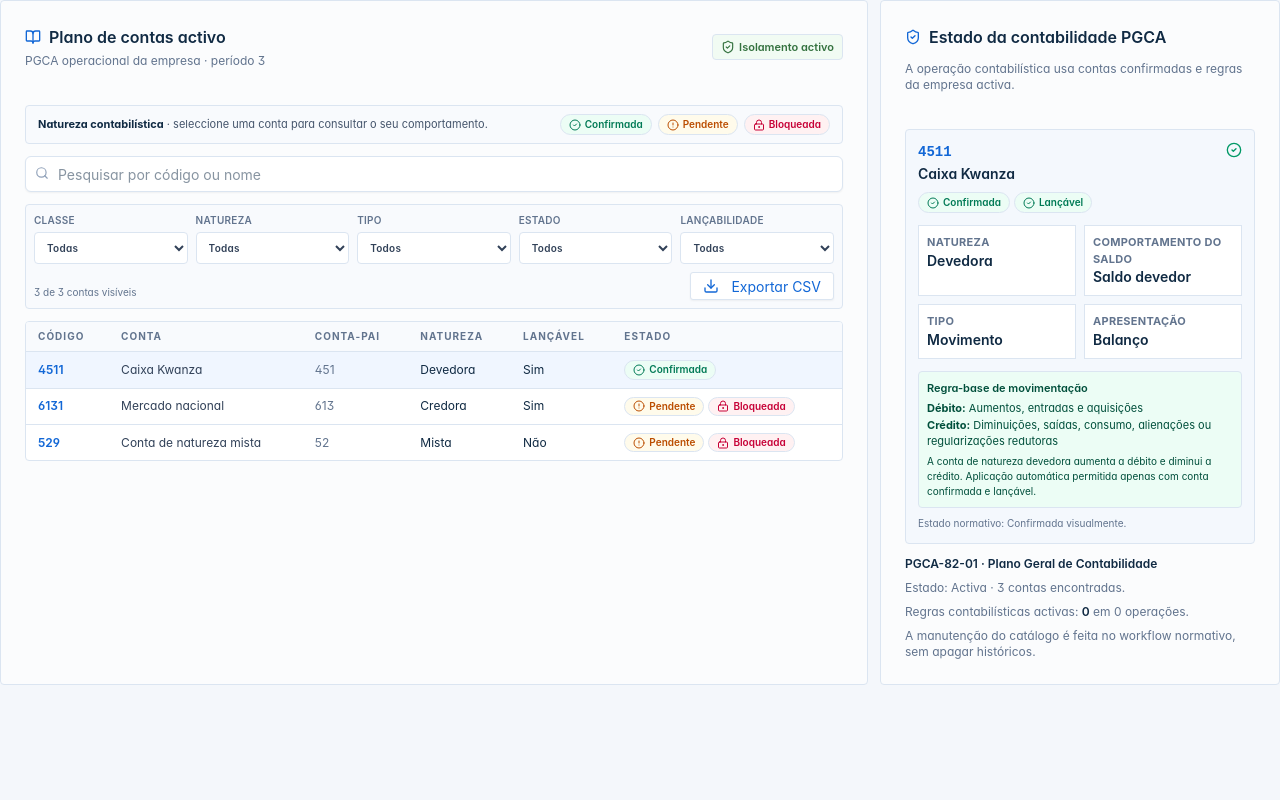
it: protótipo do motor contabilístico › filtra contas pendentes sem alterar a regra de lançamento
Select "Pendentes" in the dropdown named "Filtrar contas por estado": (596, 248) [519,232,672,264]
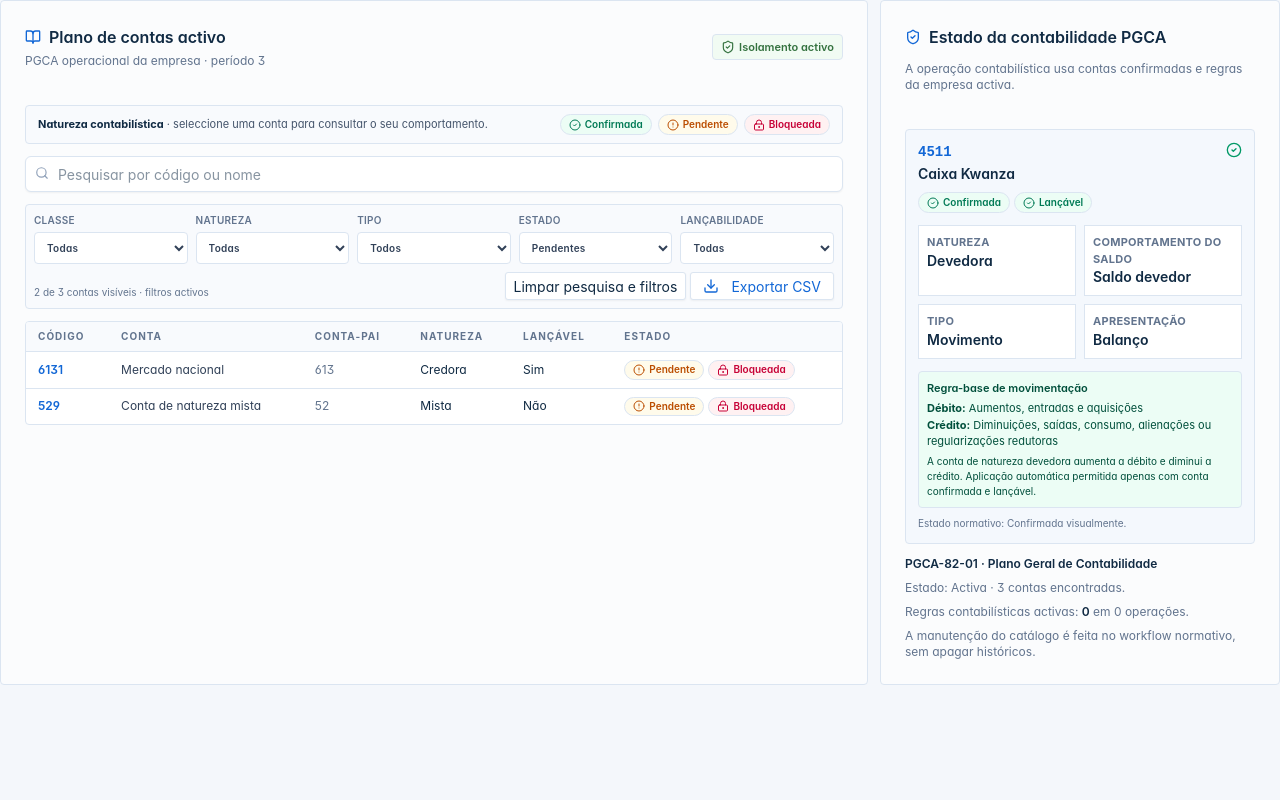
Click the text "6131": (51, 369) [26,352,109,388]
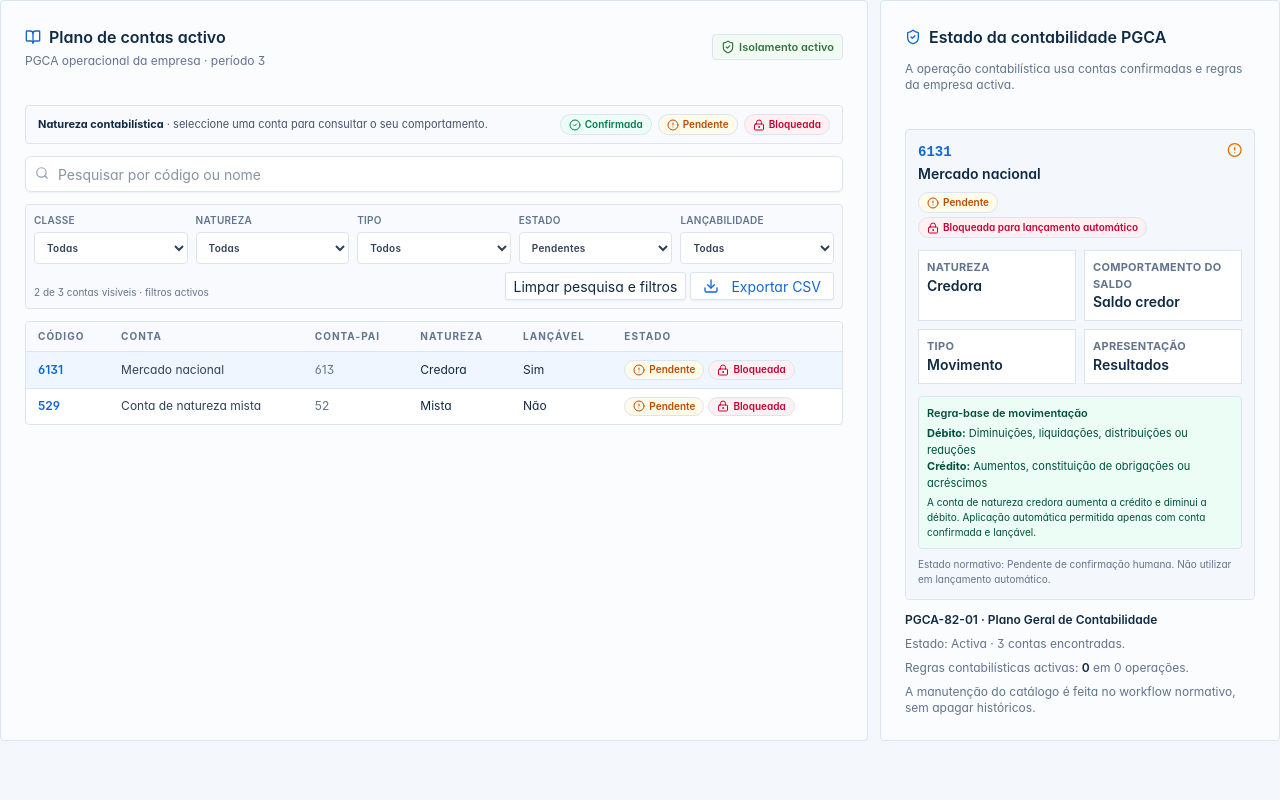
Now the text "Não utilizar em lançamento automático" is shown, box [918,558,1231,585]
